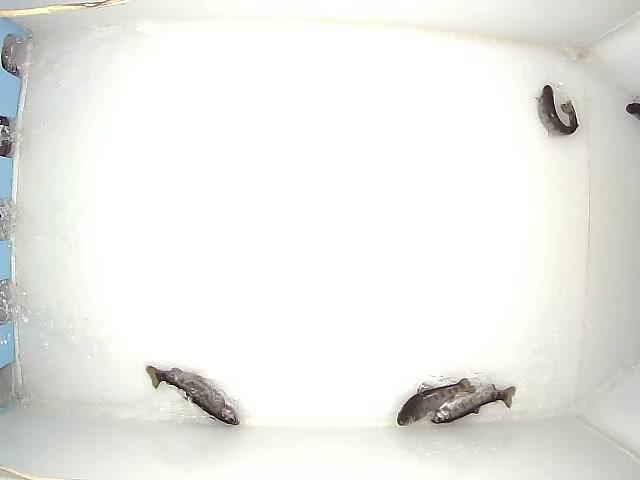fish: (145, 363, 241, 426), (396, 377, 479, 428), (430, 382, 517, 424), (534, 84, 580, 138)
